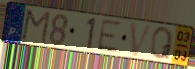1: (85, 17, 98, 50)
8: (49, 13, 70, 47)
E: (95, 18, 122, 54)
M: (19, 8, 52, 46)
Q: (149, 26, 175, 61)
V: (129, 21, 155, 58)
